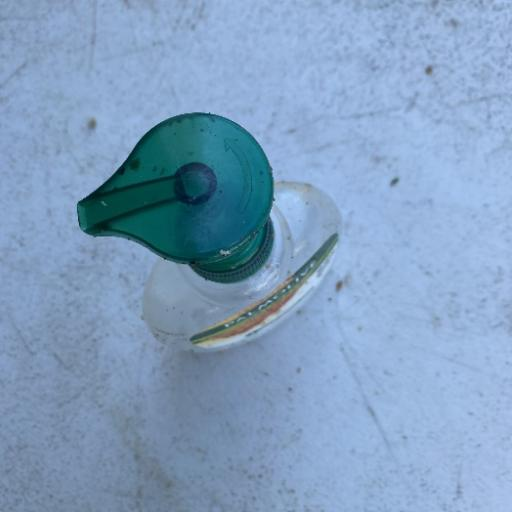Plastic: (74, 108, 345, 356)
